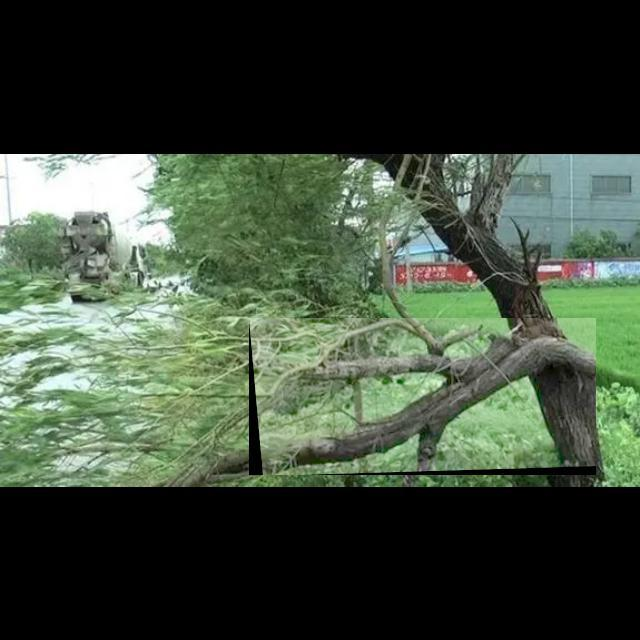fallen_tree: (249, 318, 597, 476)
